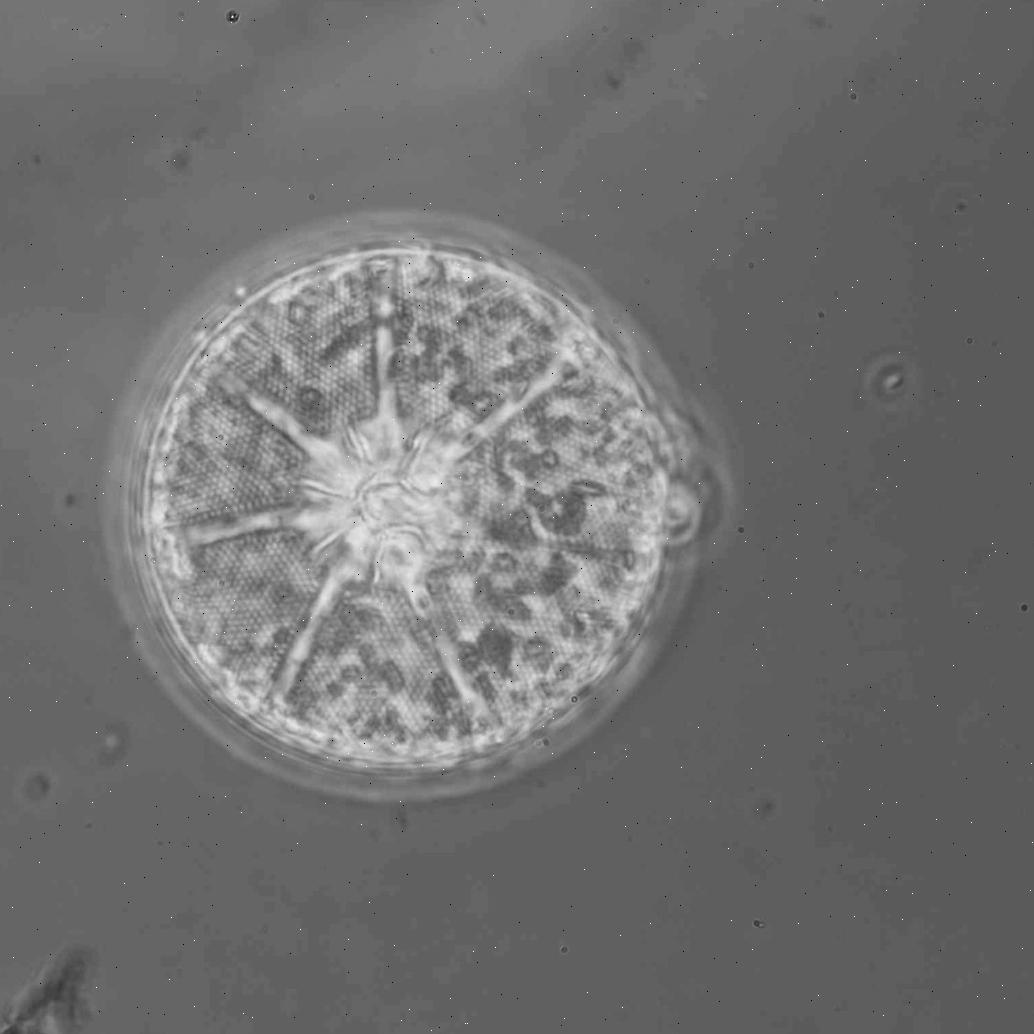asteromphalus_hyalinus: (146, 255, 670, 775)
